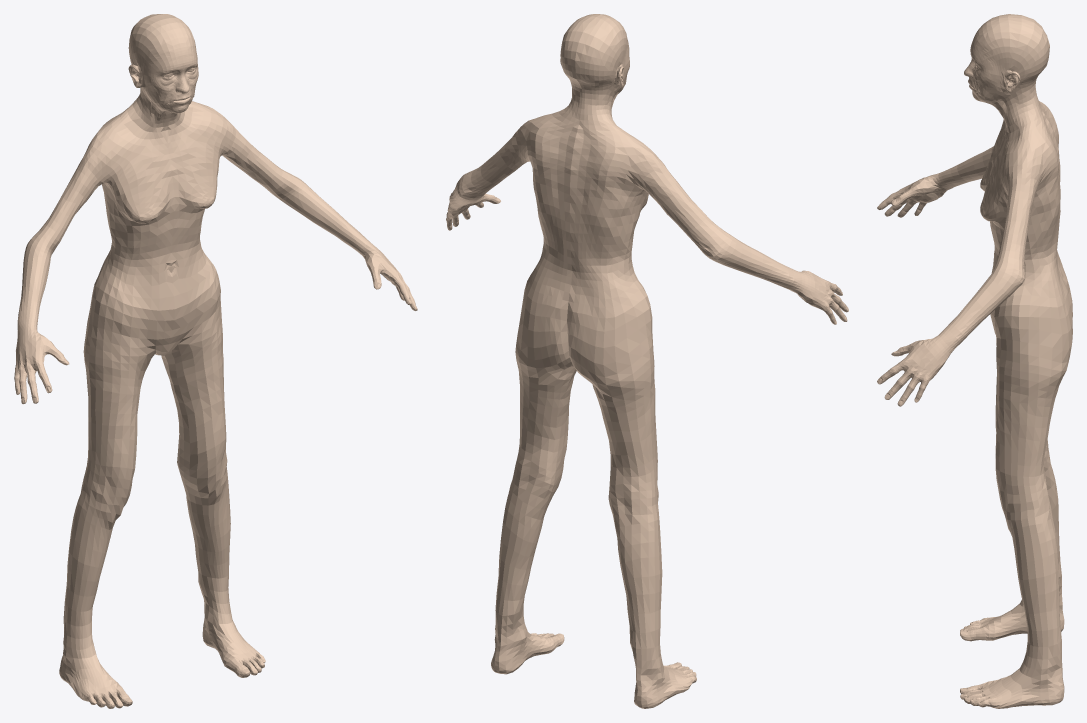
File: female-elder-lean-toned.glb
3 renders of one model, left to right at view 1: azimuth 30°, elevation 25°; view 2: azimuth 150°, elevation 25°; view 3: azimuth 270°, elevation 25°, orthographic.
Visible parts, largest first — view 1: world; view 2: world; view 3: world.
Boxes of the visible parts, x1=… form: world: x1=14, y1=14, x2=417, y2=708; world: x1=446, y1=14, x2=848, y2=708; world: x1=877, y1=14, x2=1072, y2=708.
Bounding box in the file's own units: 1.13 × 1.8 × 0.4906.
